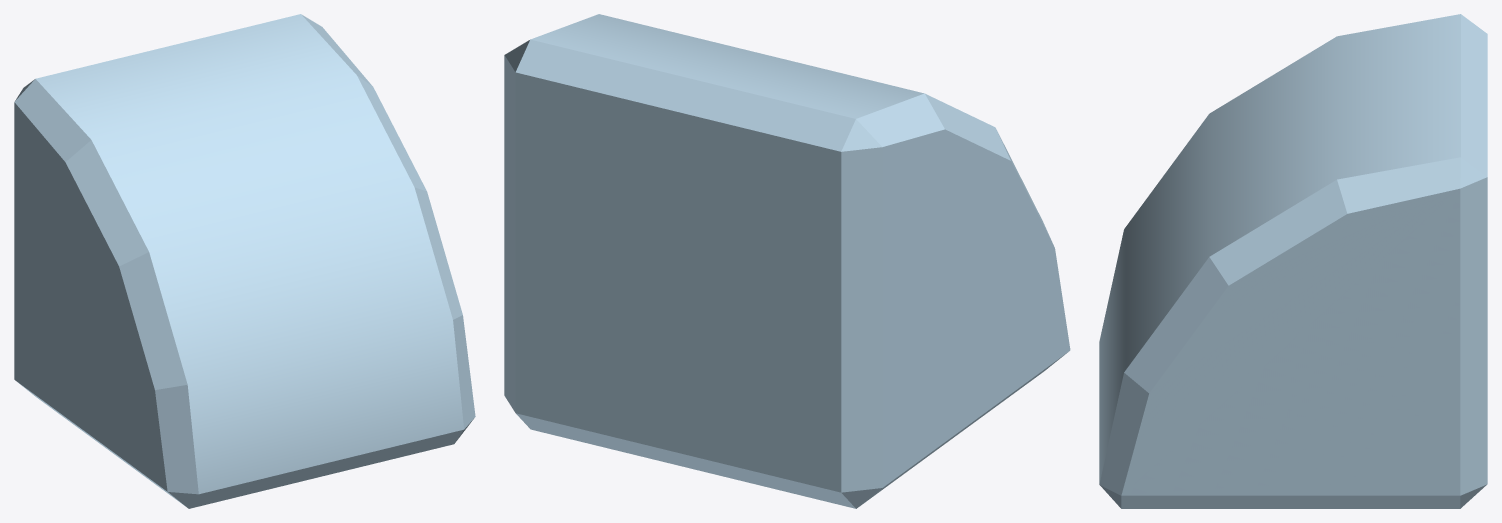
File: R4B_RoundEdge.fbx
3 renders of one model, left to right at view 1: azimuth 30°, elevation 25°; view 2: azimuth 150°, elevation 25°; view 3: azimuth 270°, elevation 25°, orthographic. The views are drawn at different scales.
Parts seen in each view (by area): view 1: R4B_RoundEdge; view 2: R4B_RoundEdge; view 3: R4B_RoundEdge.
Boxes of the visible parts, x1,y1,x2,y2 form: R4B_RoundEdge: [14, 14, 475, 508]; R4B_RoundEdge: [504, 14, 1070, 508]; R4B_RoundEdge: [1099, 14, 1487, 508].
Size of the model in its own units: 0.52 by 0.513 by 0.513.
